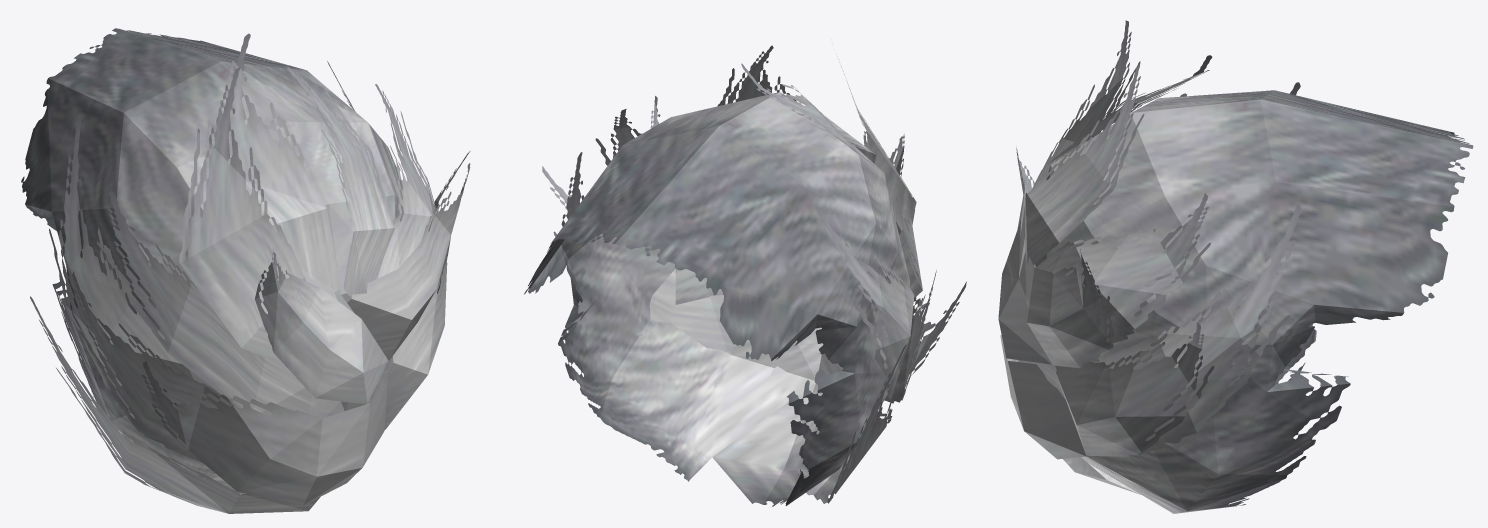
File: common_hair_male_2001.obj
The picture shows the model from 3 angles, left to right: view 1: azimuth 30°, elevation 25°; view 2: azimuth 150°, elevation 25°; view 3: azimuth 270°, elevation 25°; orthographic projection. The views are drawn at different scales.
Parts seen in each view (by area): view 1: hair07; view 2: hair07; view 3: hair07.
Part boxes in pixels (bbox=[...]): hair07: bbox=[21, 28, 470, 513]; hair07: bbox=[524, 45, 966, 506]; hair07: bbox=[998, 20, 1473, 513].
Bounding box in the file's own units: 10.89 × 11.38 × 10.43.
Materials: 1 (1 with a texture image).
